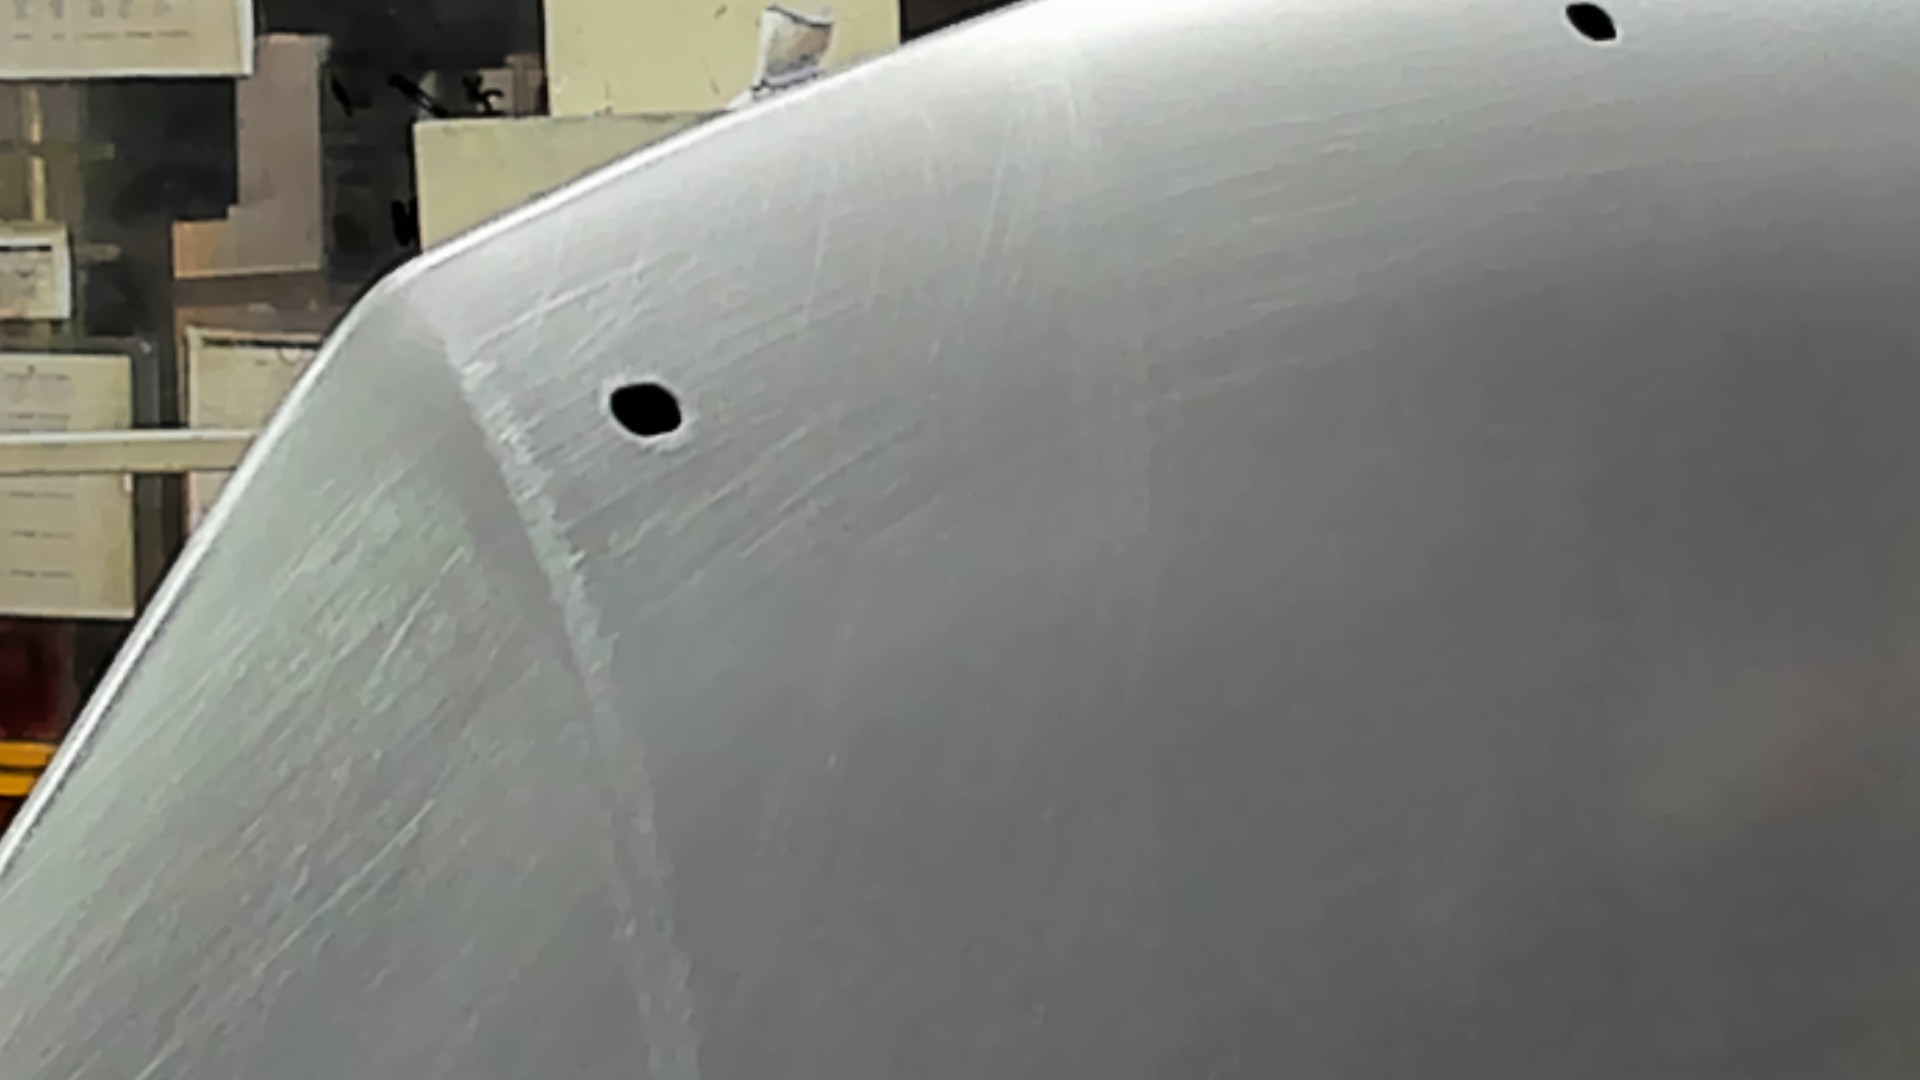amorfo: (601, 373, 687, 440), (1561, 1, 1619, 46)
